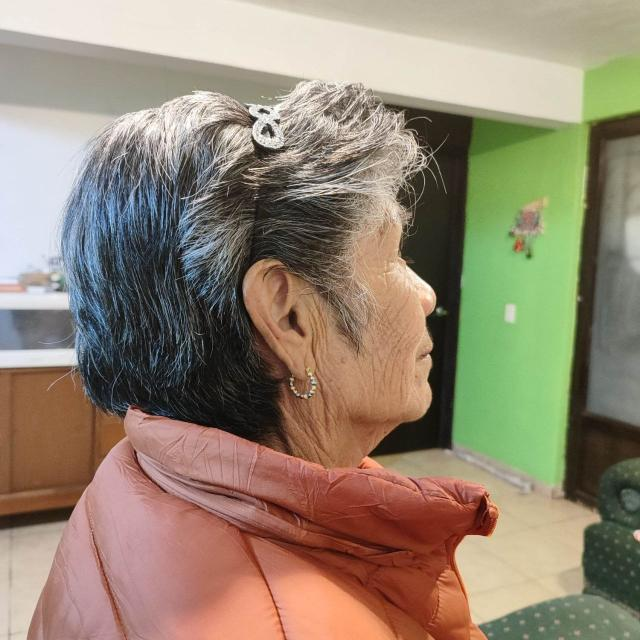ear: (242, 259, 314, 378)
